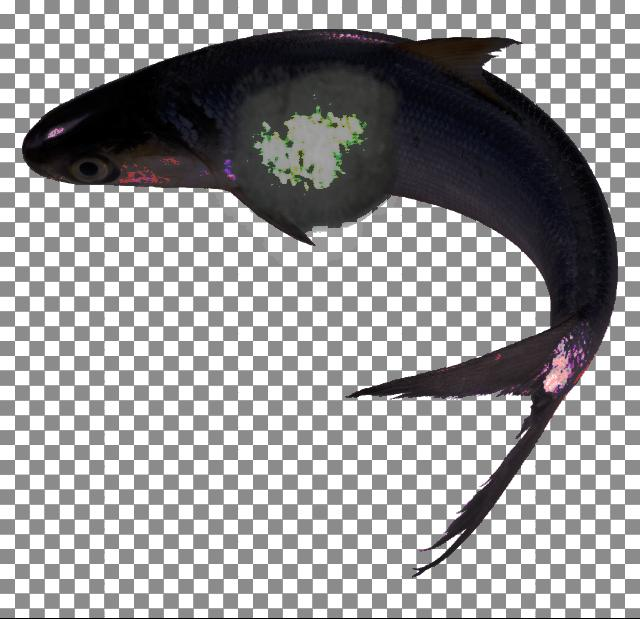Fungal Disease -Saprolegniasis-: (24, 30, 616, 573), (24, 30, 616, 569)
